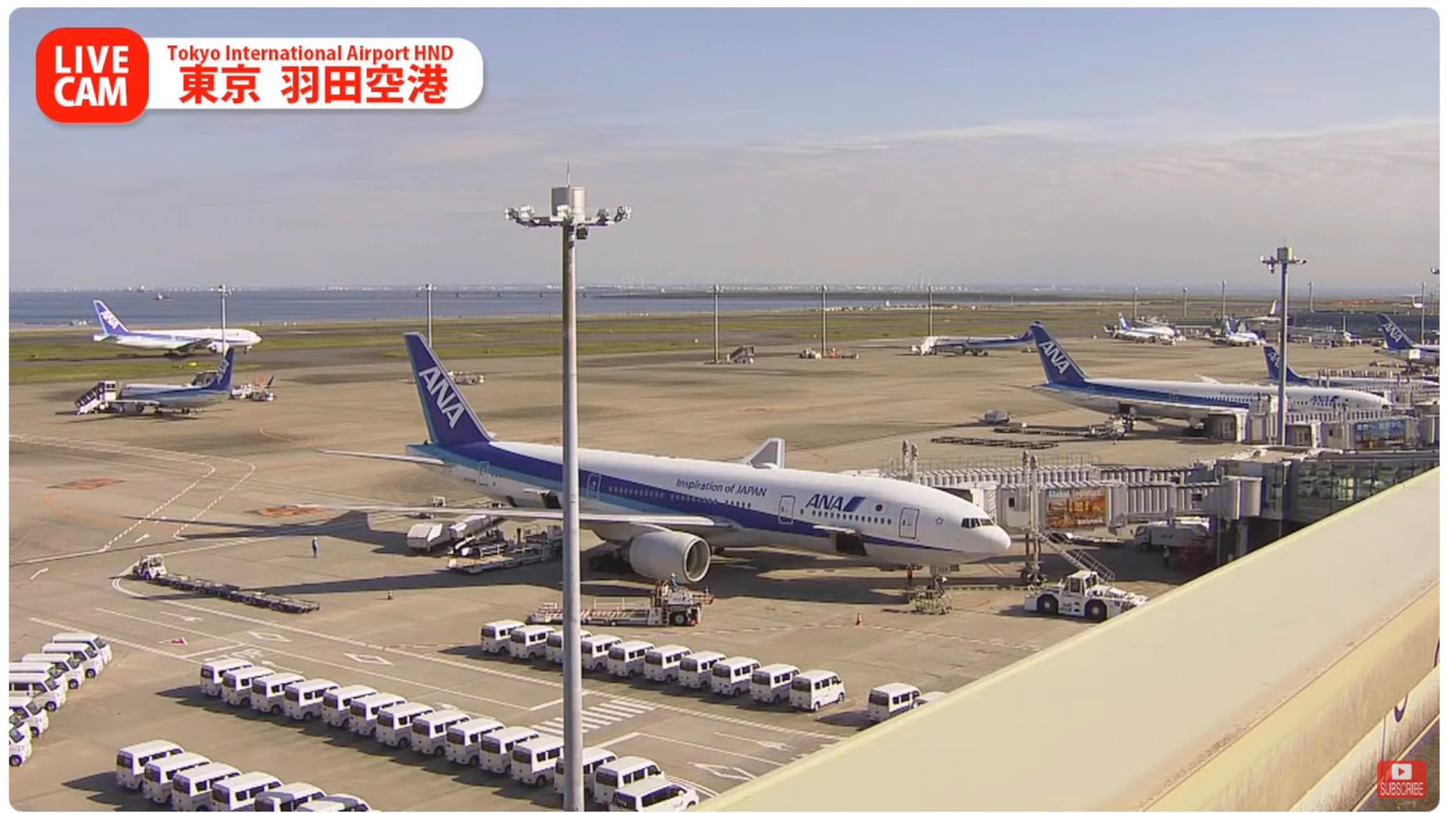APS: (1033, 569, 1157, 622)
Aerobridge: (956, 480, 1243, 535), (885, 461, 1213, 481)
Airplane: (290, 330, 1014, 584)
Baggage truck: (389, 519, 454, 556)
Dolly: (149, 575, 317, 616)
JCPL: (526, 584, 706, 630), (451, 524, 556, 576)
Skyloader: (412, 511, 553, 556)
Tractor: (138, 553, 164, 582)
Window: (1270, 448, 1442, 536)
